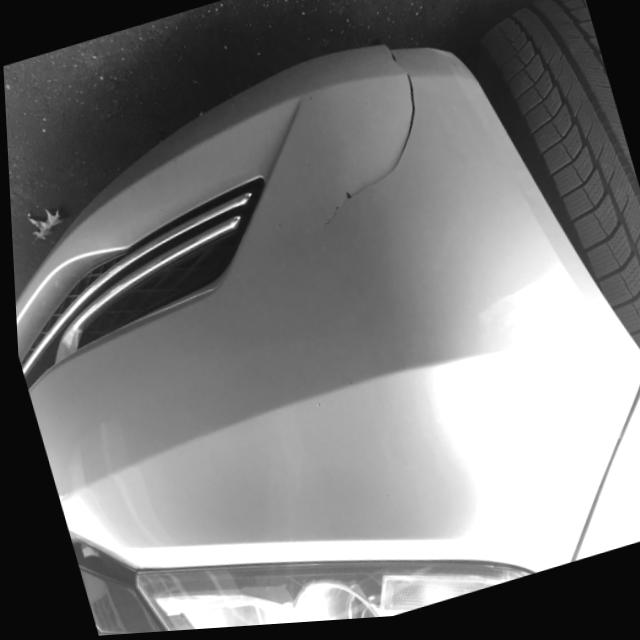Crack: (325, 39, 423, 223)
